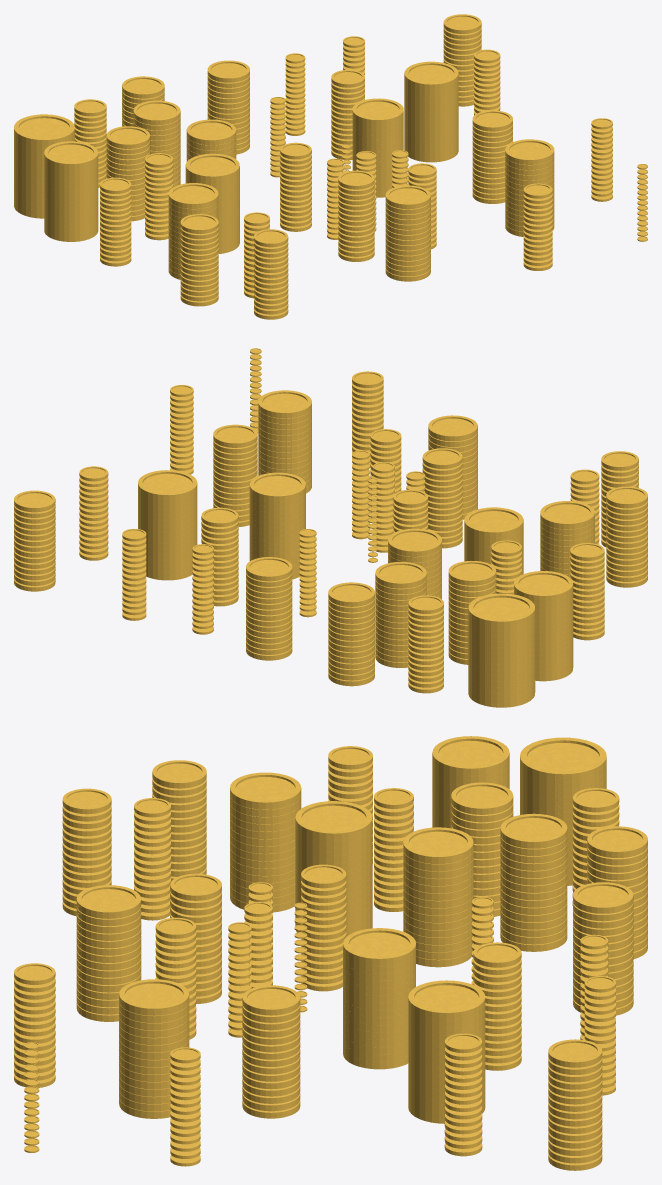
Rendered from GoldCoinS.fbx.
3 views of the same model, one above another, from view 1: azimuth 30°, elevation 25°; view 2: azimuth 150°, elevation 25°; view 3: azimuth 270°, elevation 25° (orthographic). The views are drawn at different scales.
Parts seen in each view (by area): view 1: Plane.063; view 2: Plane.063; view 3: Plane.063.
Boxes of the visible parts, x1,y1,x2,y2 form: Plane.063: [14, 14, 647, 319]; Plane.063: [14, 348, 647, 707]; Plane.063: [14, 736, 647, 1170].
Bounding box in the file's own units: 7468 × 1198 × 6156.
1 material, 1 textured.
